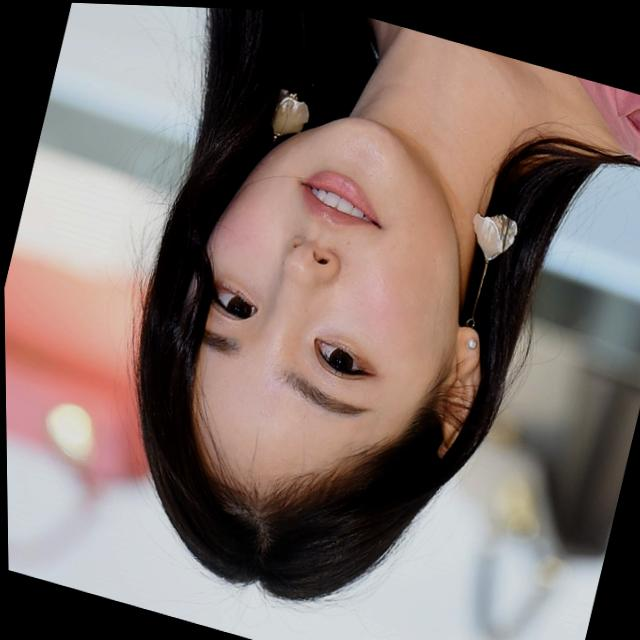face: (136, 69, 510, 550)
